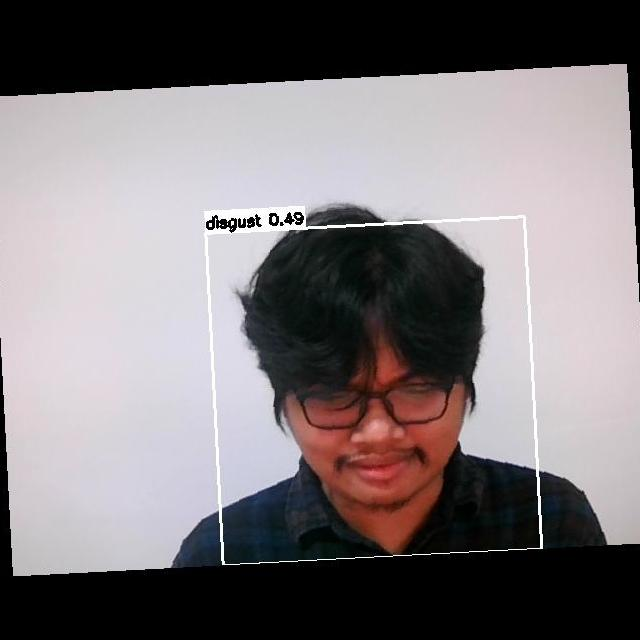Fear: (272, 352, 480, 501)
